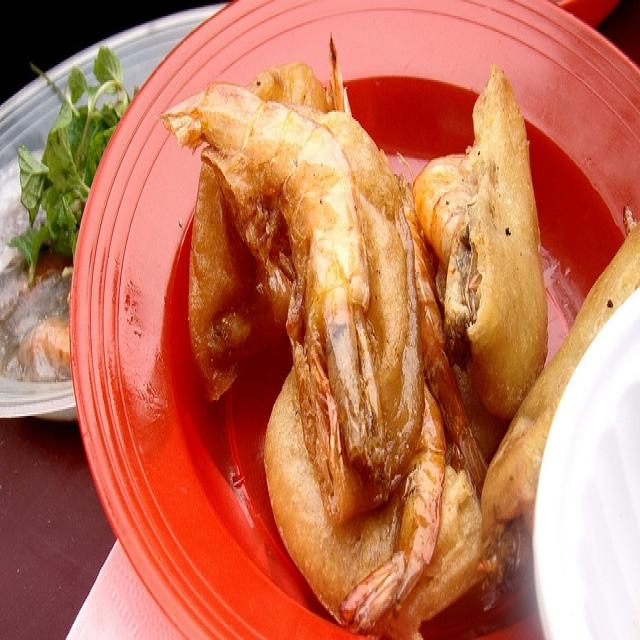炸货点心: (72, 5, 606, 635)
熟制海鲜: (72, 5, 606, 635)
